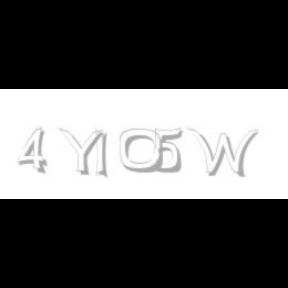4: (16, 128, 48, 174)
5: (152, 128, 182, 174)
I: (96, 128, 108, 180)
O: (120, 128, 164, 174)
W: (187, 128, 259, 178)
Y: (58, 128, 104, 176)
